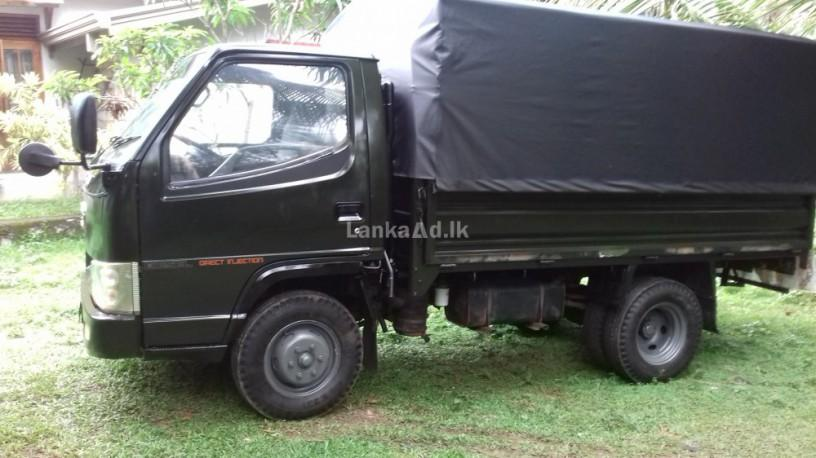truck: (19, 1, 816, 420)
